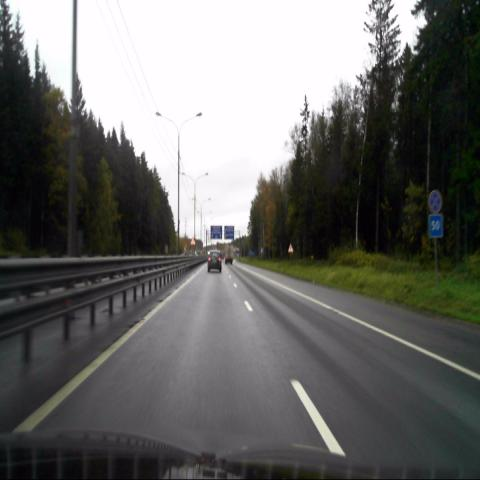6_2: (429, 215, 441, 235)
